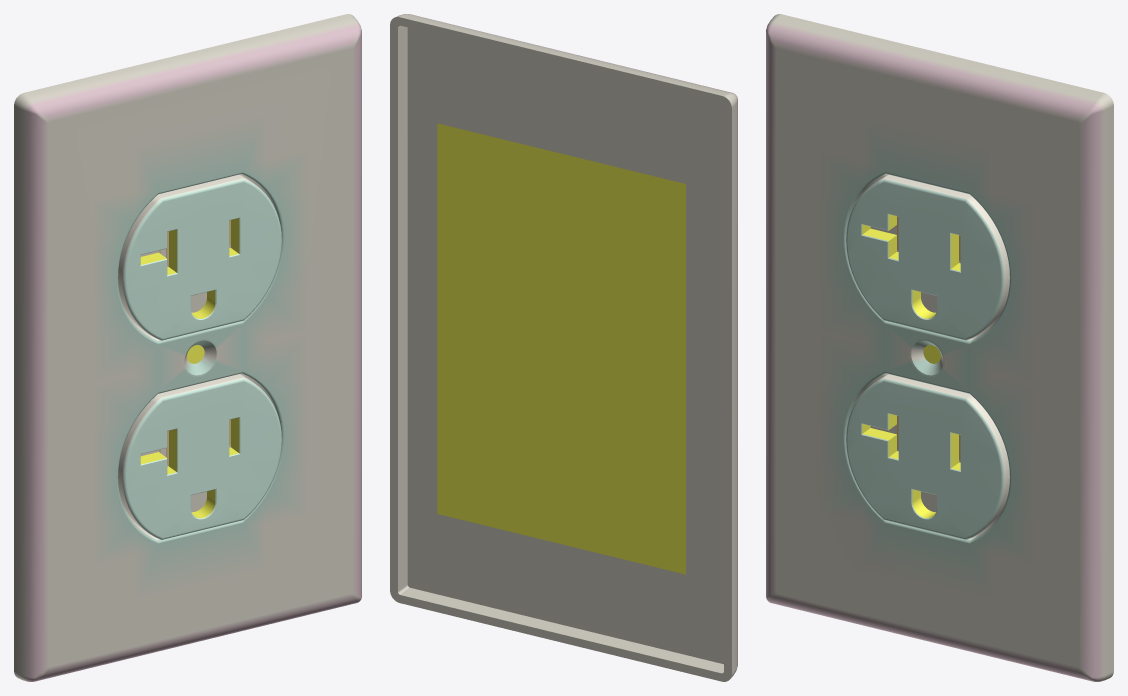
The model's file is Kit_OutletDuplex20.fbx.
3 renders of one model, left to right at view 1: azimuth 30°, elevation 25°; view 2: azimuth 150°, elevation 25°; view 3: azimuth 330°, elevation 25°, orthographic.
Visible parts, largest first — view 1: Kit_OutletDuplex20_LOD0; view 2: Kit_OutletDuplex20_LOD0; view 3: Kit_OutletDuplex20_LOD0.
Boxes of the visible parts, <box> form: Kit_OutletDuplex20_LOD0: <box>14,14,361,681</box>; Kit_OutletDuplex20_LOD0: <box>390,14,737,681</box>; Kit_OutletDuplex20_LOD0: <box>766,14,1113,681</box>.
Size of what is drawn, in the model's own units: 0.0698 by 0.1143 by 0.0066.
